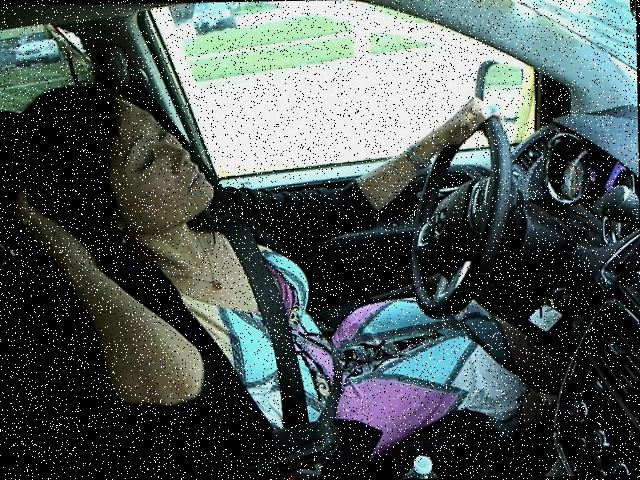c6 - Hair and Makeup: (11, 63, 523, 354)
